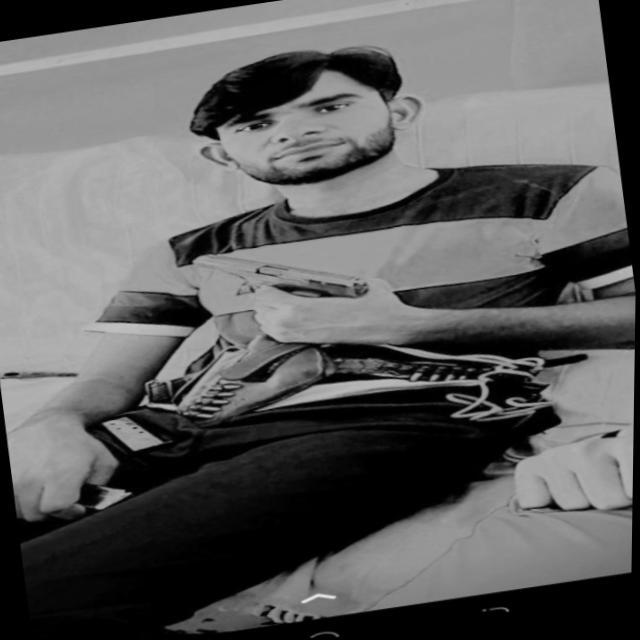weapon: (184, 228, 391, 347)
